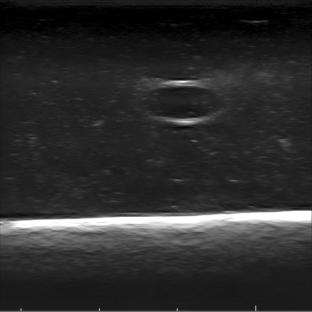vessel: (147, 79, 226, 125)
